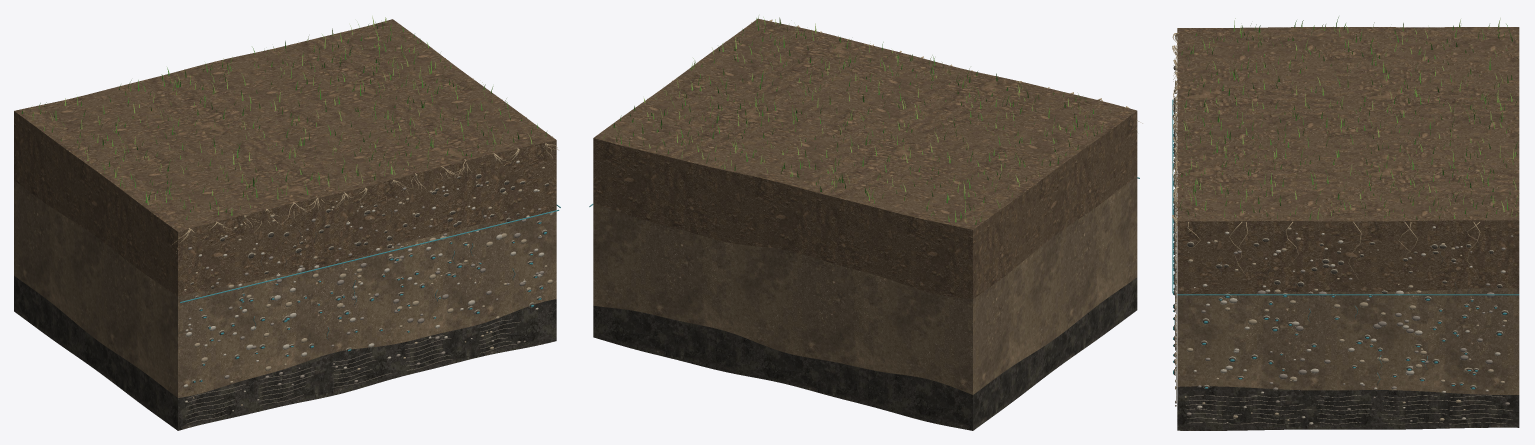
The model's file is groundwater-v2.glb.
The picture shows the model from 3 angles, left to right: view 1: azimuth 30°, elevation 25°; view 2: azimuth 150°, elevation 25°; view 3: azimuth 270°, elevation 25°; orthographic projection. The views are drawn at different scales.
Visible parts, largest first — view 1: Layer_Unsaturated, Layer_Saturated, Layer_LowPermeability, Surface_Grass, Soil_Aggregates, Compacted_Fine_Sediment_Laminae, Pore_Mineral_Rims_Illustrative, Pore_Section_Openings_Illustrative, Roots_Illustrative_Fibrous, Water_Table_Boundary; view 2: Layer_Unsaturated, Layer_Saturated, Layer_LowPermeability, Surface_Grass; view 3: Layer_Unsaturated, Layer_Saturated, Layer_LowPermeability, Surface_Grass, Soil_Aggregates, Compacted_Fine_Sediment_Laminae, Pore_Mineral_Rims_Illustrative, Pore_Section_Openings_Illustrative, Water_Table_Boundary, Roots_Illustrative_Fibrous, Water_Detailed_Pores_Illustrative, Roots_Right_Section.
Part boxes in pixels (<box>): Layer_Unsaturated: <box>14,19,556,296</box>; Layer_Saturated: <box>14,180,556,397</box>; Layer_LowPermeability: <box>14,276,556,430</box>; Surface_Grass: <box>21,16,546,219</box>; Soil_Aggregates: <box>183,160,553,411</box>; Compacted_Fine_Sediment_Laminae: <box>185,319,520,424</box>; Pore_Mineral_Rims_Illustrative: <box>190,174,549,382</box>; Pore_Section_Openings_Illustrative: <box>191,174,548,382</box>; Roots_Illustrative_Fibrous: <box>172,143,557,253</box>; Water_Table_Boundary: <box>180,204,560,303</box>; Layer_Unsaturated: <box>593,18,1137,299</box>; Layer_Saturated: <box>593,176,1137,394</box>; Layer_LowPermeability: <box>593,277,1137,430</box>; Surface_Grass: <box>602,16,1103,224</box>; Layer_Unsaturated: <box>1177,27,1519,295</box>; Layer_Saturated: <box>1177,287,1519,394</box>; Layer_LowPermeability: <box>1177,386,1519,430</box>; Surface_Grass: <box>1179,17,1518,220</box>; Soil_Aggregates: <box>1175,51,1513,424</box>; Compacted_Fine_Sediment_Laminae: <box>1176,271,1512,424</box>; Pore_Mineral_Rims_Illustrative: <box>1174,66,1508,389</box>; Pore_Section_Openings_Illustrative: <box>1173,66,1507,389</box>; Water_Table_Boundary: <box>1172,99,1519,295</box>; Roots_Illustrative_Fibrous: <box>1172,33,1180,233</box>; Water_Detailed_Pores_Illustrative: <box>1173,134,1506,389</box>; Roots_Right_Section: <box>1187,221,1480,283</box>.
Size of the model in its own units: 4.11 by 2.17 by 3.06.
15 materials, 3 textured.
